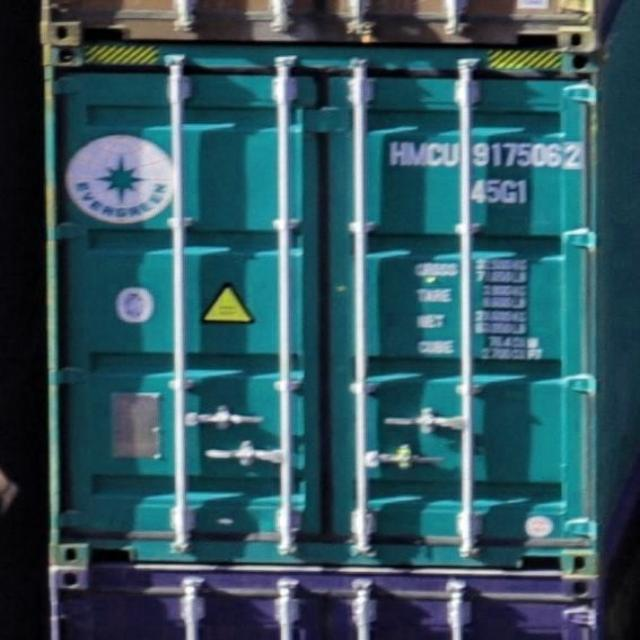ISO: (472, 175, 528, 207)
container_number: (392, 142, 574, 170)
